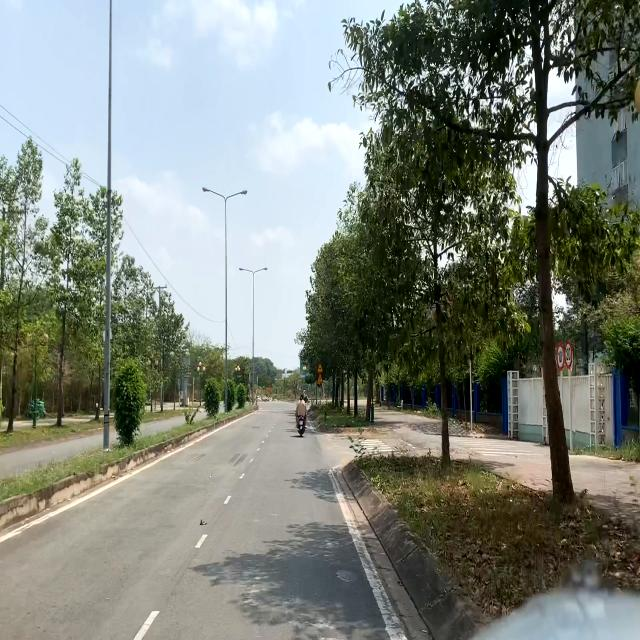W.205d: (317, 362, 323, 373)
W.224: (317, 374, 323, 382)
